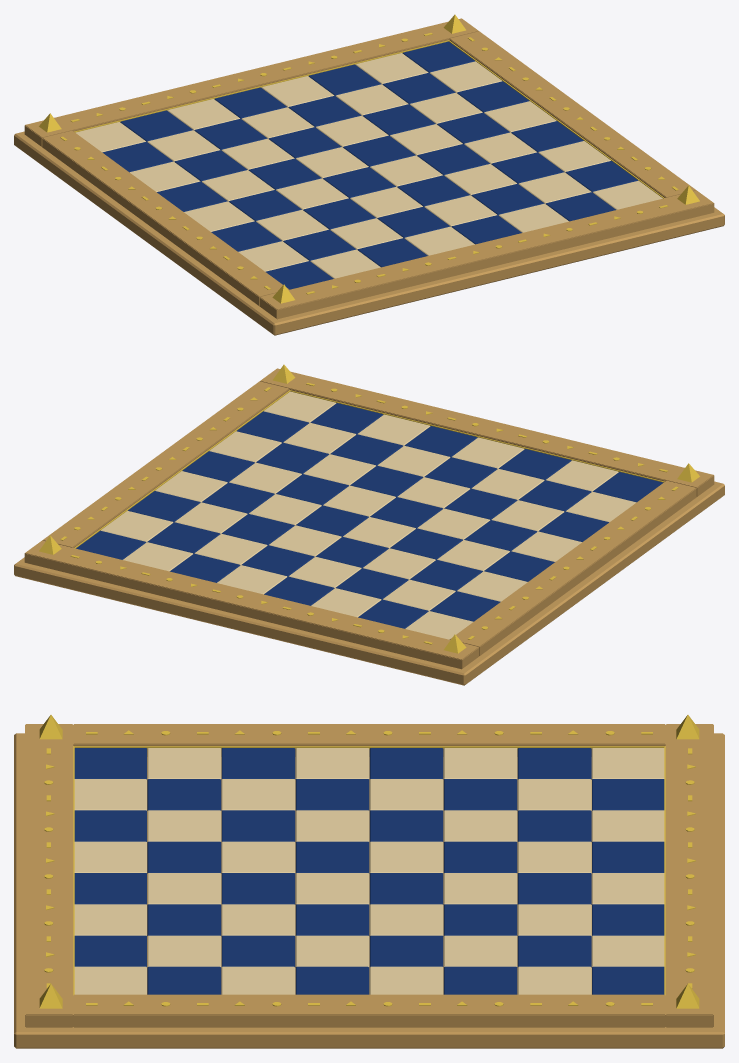
File: Giza_Tablero.fbx
The picture shows the model from 3 angles, top to bottom: view 1: azimuth 30°, elevation 25°; view 2: azimuth 150°, elevation 25°; view 3: azimuth 270°, elevation 25°; orthographic projection. The views are drawn at different scales.
Parts seen in each view (by area): view 1: Giza_Tablero; view 2: Giza_Tablero; view 3: Giza_Tablero.
Boxes of the visible parts, x1=… form: Giza_Tablero: x1=14, y1=14, x2=724, y2=335; Giza_Tablero: x1=14, y1=364, x2=724, y2=685; Giza_Tablero: x1=14, y1=715, x2=724, y2=1048.
Bounding box in the file's own units: 9.6 × 1.25 × 9.6.
